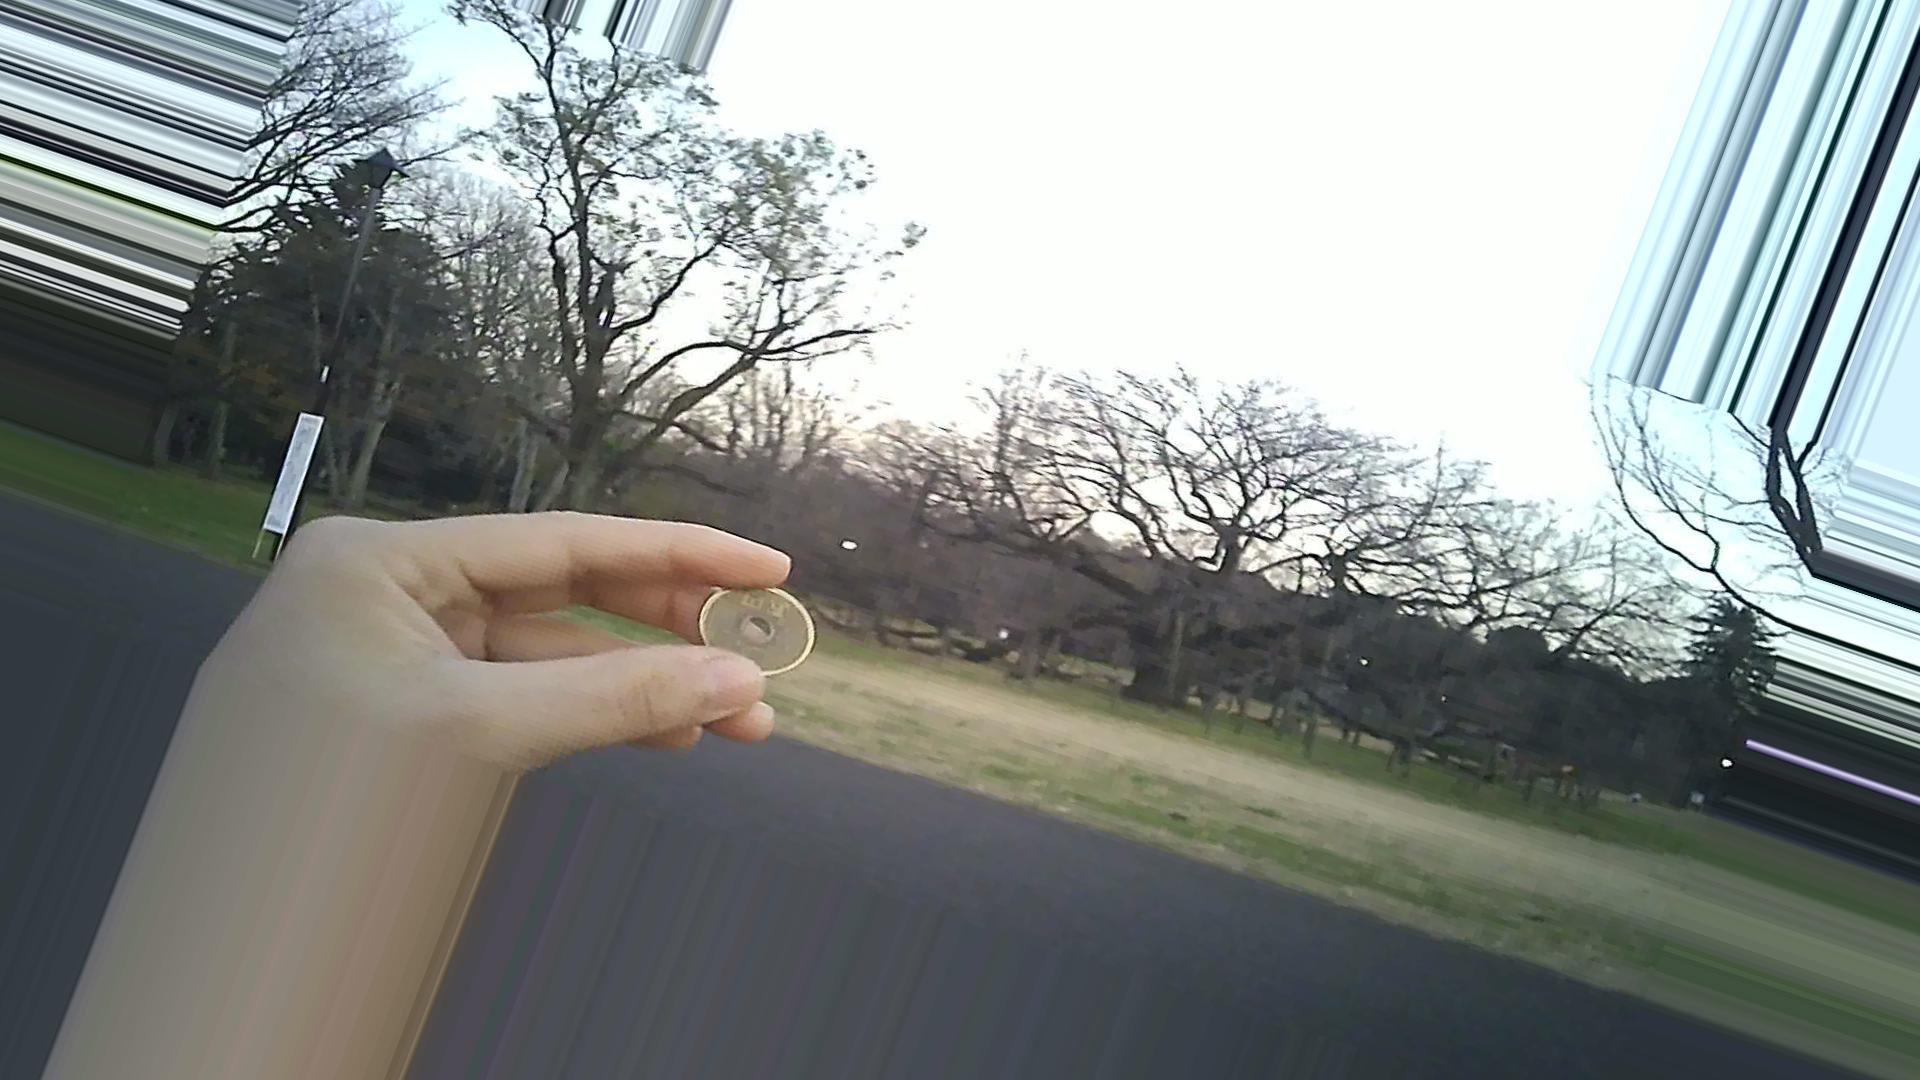5 Yen: (692, 576, 819, 691)
